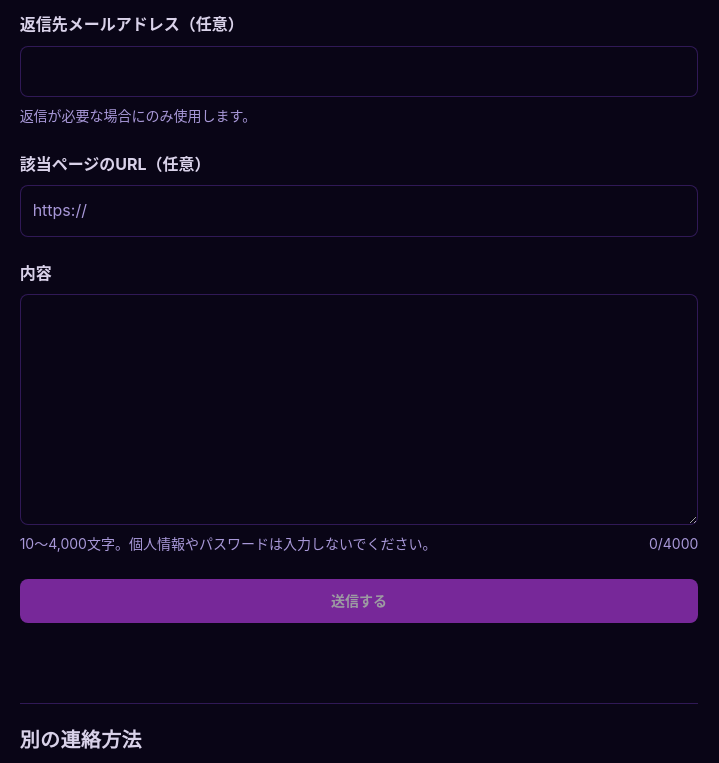
Test: FeedbackContent › 送信失敗をalertとして表示し再試行できる
(page scrolled)
Step 1. Type "再現手順を含む不具合の報告です。" into the text box labelled "内容" → [359, 410], box 20,294 -> 698,525
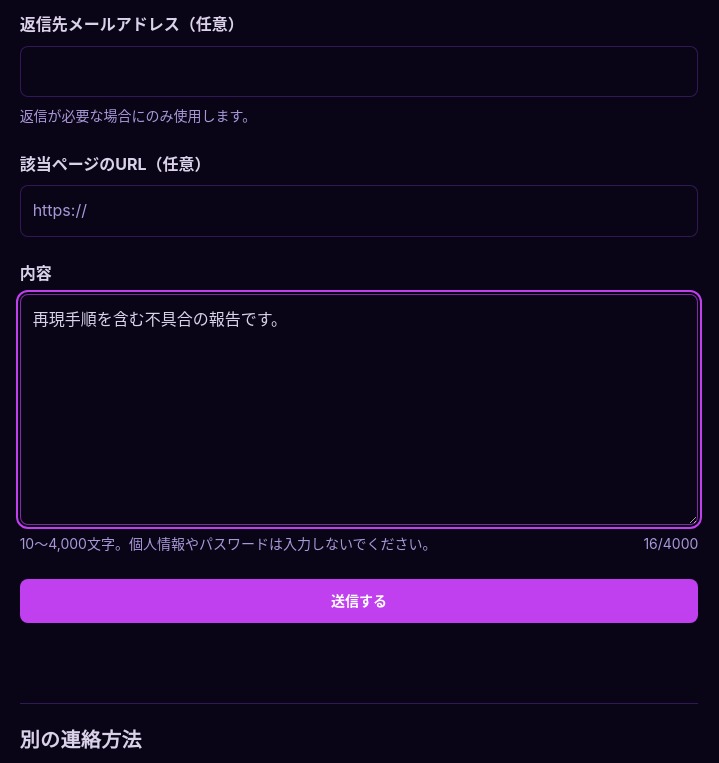
Step 2. Click the button "送信する" → [359, 602], box 20,580 -> 698,624
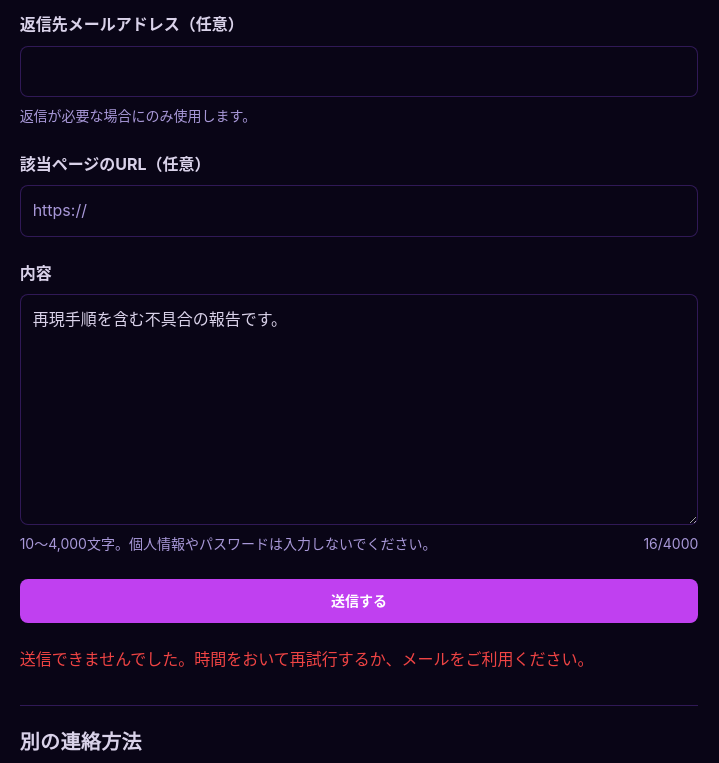
Expected: the message shows "送信できませんでした", 20,650 -> 594,670
Step 3. Click the button "送信する" → [359, 602], box 20,580 -> 698,624
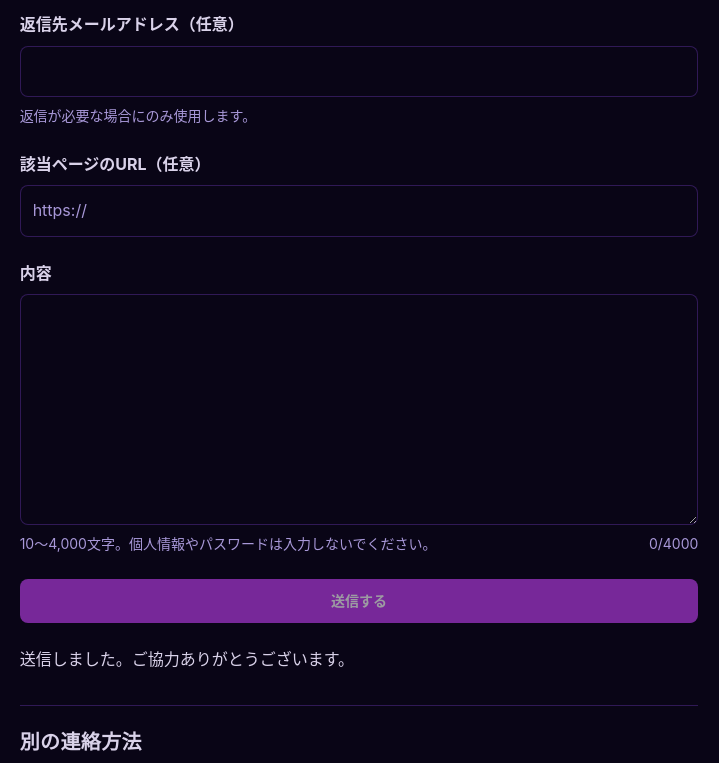
Expected: the message shows "送信しました", 20,650 -> 354,670
